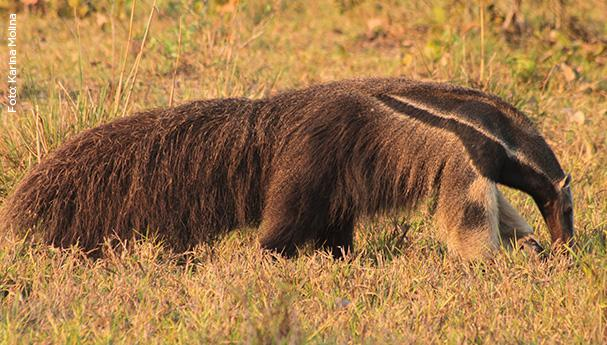TamanduaBandeira: (9, 77, 585, 272)
